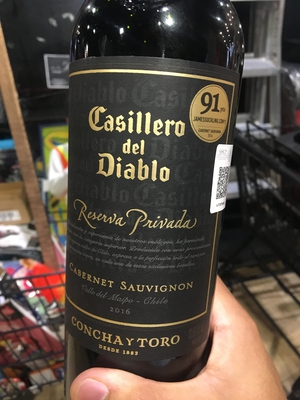casillero del diablo reserva privada cabernet sauvignon: (59, 7, 250, 400)
